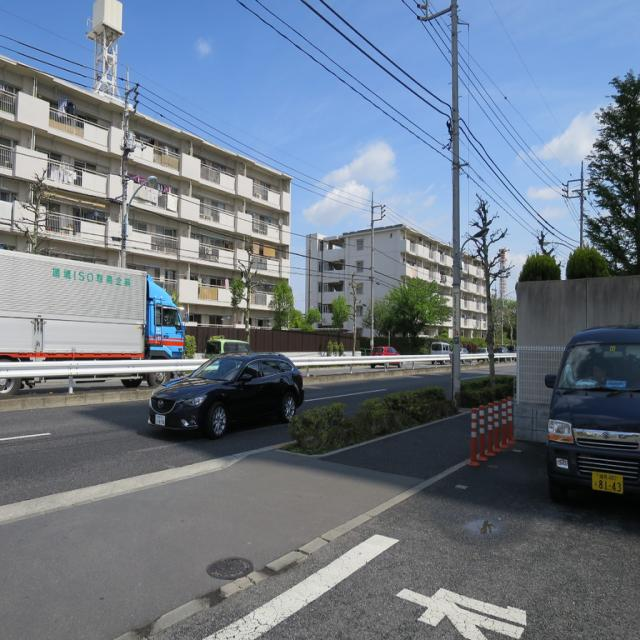car: (143, 350, 303, 451)
